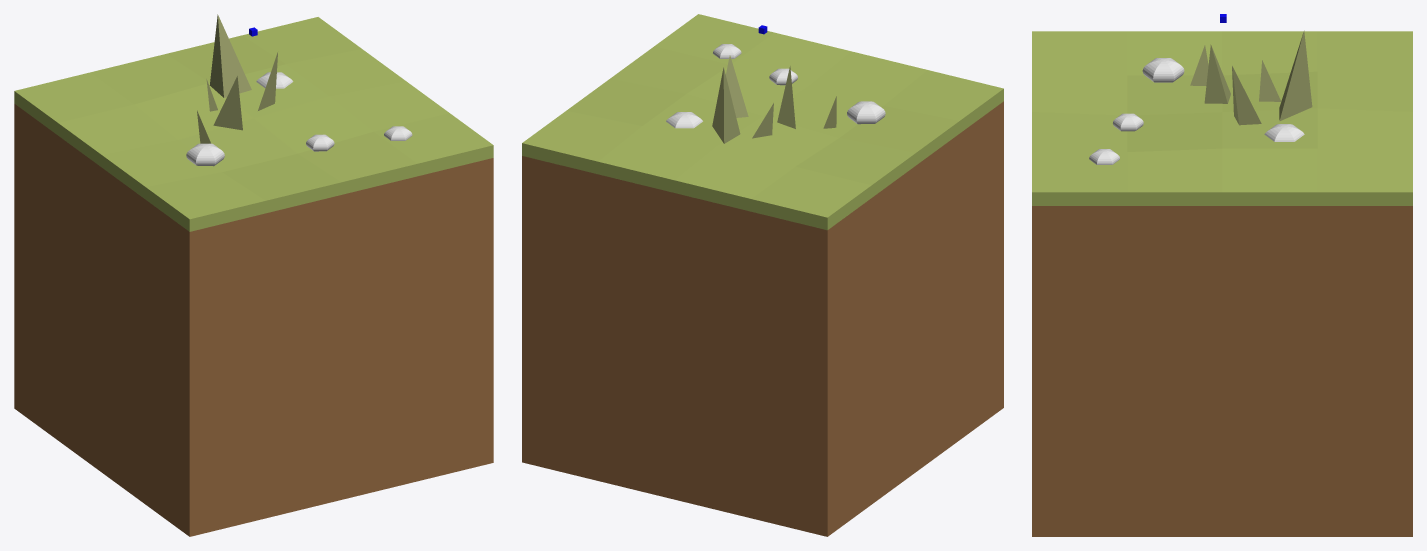
The model's file is grass-tile-transformed.glb.
3 renders of one model, left to right at view 1: azimuth 30°, elevation 25°; view 2: azimuth 150°, elevation 25°; view 3: azimuth 270°, elevation 25°, orthographic. The views are drawn at different scales.
Parts seen in each view (by area): view 1: Block, Grass, TallGrassL01, TallGrassL02, RockM01; view 2: Block, Grass, TallGrassL01, RockM01, TallGrassM01, TallGrassL02; view 3: Block, Grass, TallGrassL01, TallGrassL02, TallGrassM01, RockM01, RockM02, TallGrassS01, RockS02.
Part boxes in pixels (box(x1,y1,x2,y2)): Block: box(14, 104, 493, 536); Grass: box(14, 17, 493, 231); TallGrassL01: box(209, 14, 251, 97); TallGrassL02: box(213, 76, 242, 130); RockM01: box(186, 143, 224, 166); Block: box(522, 101, 1003, 536); Grass: box(522, 14, 1003, 230); TallGrassL01: box(712, 67, 740, 143); RockM01: box(847, 101, 885, 124); TallGrassM01: box(726, 55, 748, 117); TallGrassL02: box(777, 66, 795, 128); Block: box(1032, 206, 1412, 536); Grass: box(1032, 31, 1412, 205); TallGrassL01: box(1279, 30, 1312, 120); TallGrassL02: box(1204, 44, 1230, 103); TallGrassM01: box(1232, 66, 1261, 125); RockM01: box(1142, 58, 1184, 82); RockM02: box(1264, 124, 1304, 141); TallGrassS01: box(1259, 60, 1281, 101); RockS02: box(1113, 113, 1143, 131).
Bounding box in the file's own units: 2 × 2.56 × 2.
